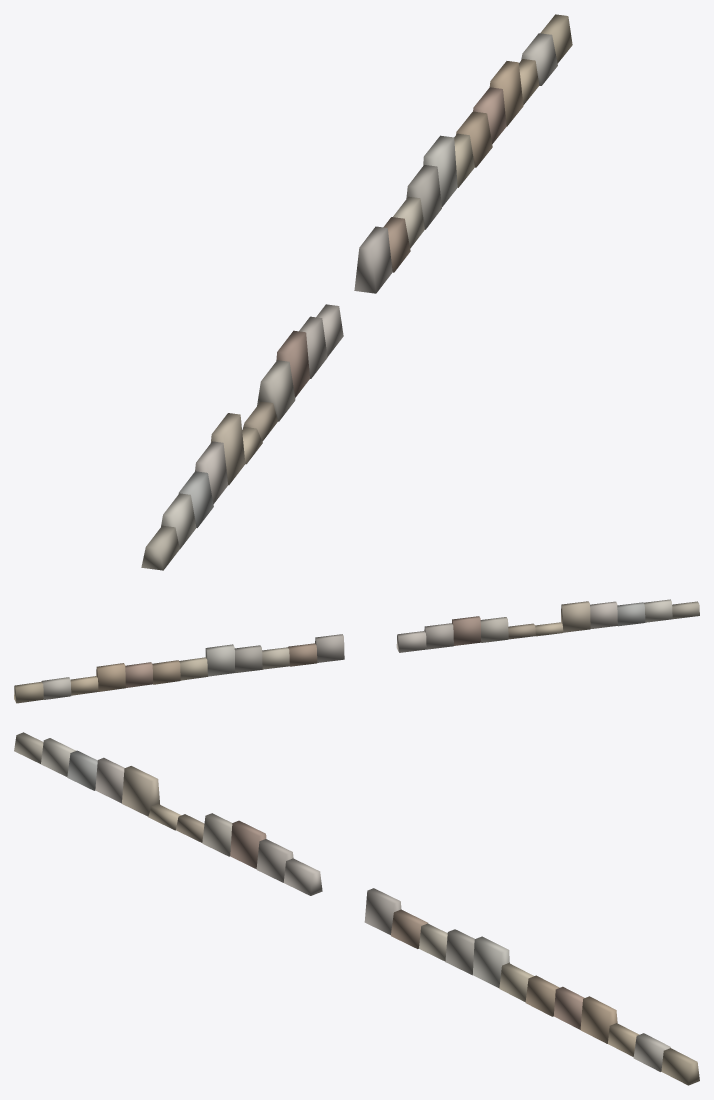
File: farm_15_21_collision.glb
3 views of the same model, one above another, from view 1: azimuth 30°, elevation 25°; view 2: azimuth 150°, elevation 25°; view 3: azimuth 270°, elevation 25° (orthographic). The views are drawn at different scales.
Visible parts, largest first — view 1: geometry_0; view 2: geometry_0; view 3: geometry_0.
Part boxes in pixels (x1,y1,x2,y2): geometry_0: (141, 14, 572, 570); geometry_0: (14, 599, 699, 703); geometry_0: (14, 732, 699, 1085).
Bounding box in the file's own units: 28.84 × 2.6 × 26.98.
